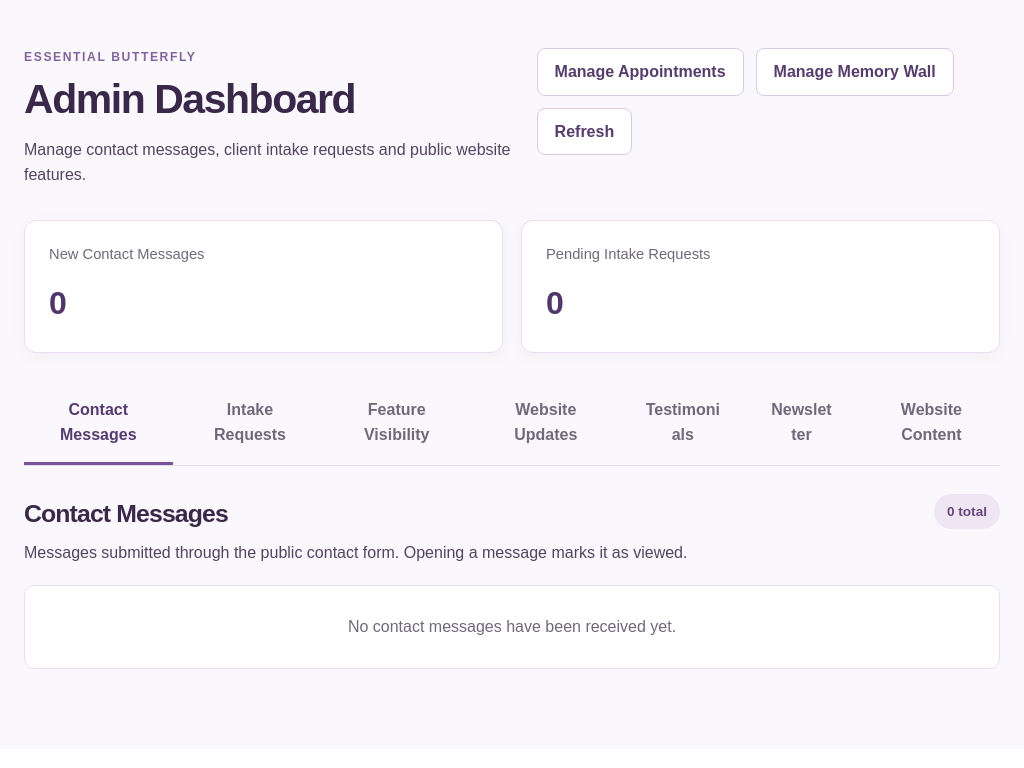
Test: AdminDashboard › switches to the testimonials section
Click the button "Testimonials".
click(683, 424)  # box x1=626 y1=382 x2=740 y2=465
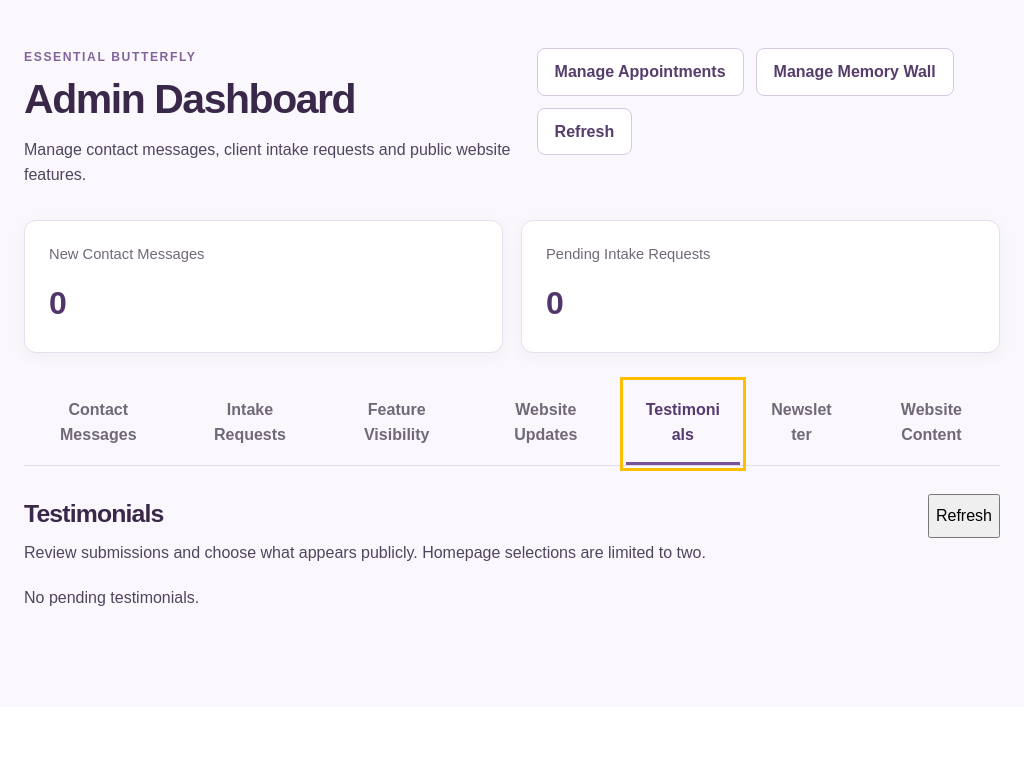
Result: the text "No pending testimonials." is shown at x1=24 y1=589 x2=199 y2=606
